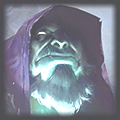Yorick: (2, 4, 116, 117)
